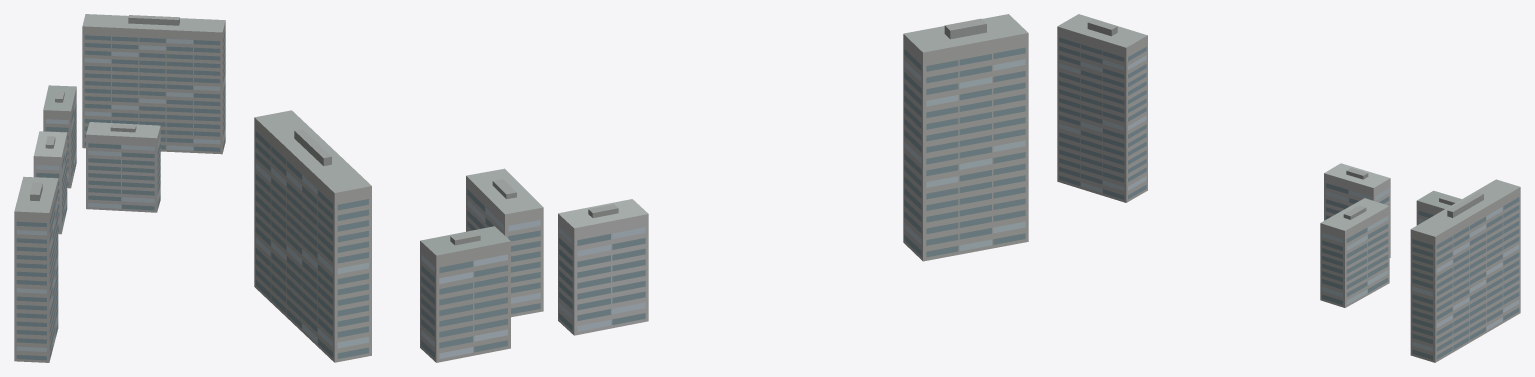
File: apt-a10020267.glb
The picture shows the model from 3 angles, left to right: view 1: azimuth 30°, elevation 25°; view 2: azimuth 150°, elevation 25°; view 3: azimuth 270°, elevation 25°; orthographic projection. The views are drawn at different scales.
Parts seen in each view (by area): view 1: apt-a10020267; view 2: apt-a10020267; view 3: apt-a10020267.
Part boxes in pixels (x1,y1,x2,y2): apt-a10020267: (14,14,225,362); apt-a10020267: (254,14,1028,362); apt-a10020267: (1057,14,1520,362).
Bounding box in the file's own units: 154 × 60 × 156.
